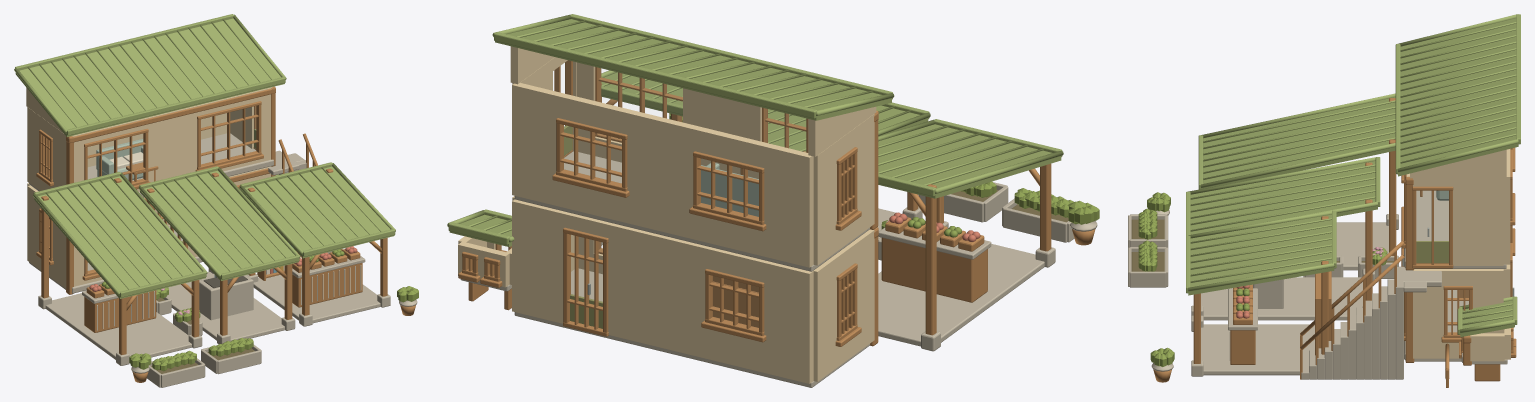
The picture shows the model from 3 angles, left to right: view 1: azimuth 30°, elevation 25°; view 2: azimuth 150°, elevation 25°; view 3: azimuth 270°, elevation 25°; orthographic projection. The views are drawn at different scales.
Parts seen in each view (by area): view 1: SM_02_02_曲面屋顶, SM_02_01_建筑墙体, SM_02_06_景观设施, SM_02_03_木构回廊, SM_02_04_门窗楼梯, SM_02_05_景观植物; view 2: SM_02_01_建筑墙体, SM_02_02_曲面屋顶, SM_02_04_门窗楼梯, SM_02_06_景观设施, SM_02_03_木构回廊, SM_02_05_景观植物; view 3: SM_02_02_曲面屋顶, SM_02_01_建筑墙体, SM_02_04_门窗楼梯, SM_02_03_木构回廊, SM_02_05_景观植物, SM_02_06_景观设施.
Part boxes in pixels (x1,y1,x2,y2): SM_02_02_曲面屋顶: (14, 14, 395, 298); SM_02_01_建筑墙体: (26, 87, 380, 359); SM_02_06_景观设施: (82, 139, 365, 332); SM_02_03_木构回廊: (38, 86, 390, 365); SM_02_04_门窗楼梯: (36, 101, 342, 280); SM_02_05_景观植物: (129, 286, 418, 387); SM_02_01_建筑墙体: (458, 46, 1044, 387); SM_02_02_曲面屋顶: (447, 14, 1063, 246); SM_02_04_门窗楼梯: (458, 60, 861, 346); SM_02_06_景观设施: (701, 163, 991, 327); SM_02_03_木构回廊: (468, 83, 1055, 351); SM_02_05_景观植物: (669, 113, 1099, 260); SM_02_02_曲面屋顶: (1186, 14, 1520, 336); SM_02_01_建筑墙体: (1201, 149, 1510, 375); SM_02_04_门窗楼梯: (1300, 147, 1516, 387); SM_02_03_木构回廊: (1191, 98, 1500, 381); SM_02_05_景观植物: (1128, 192, 1397, 382); SM_02_06_景观设施: (1228, 190, 1468, 364).
Bounding box in the file's own units: 10.89 × 6.89 × 10.76.
